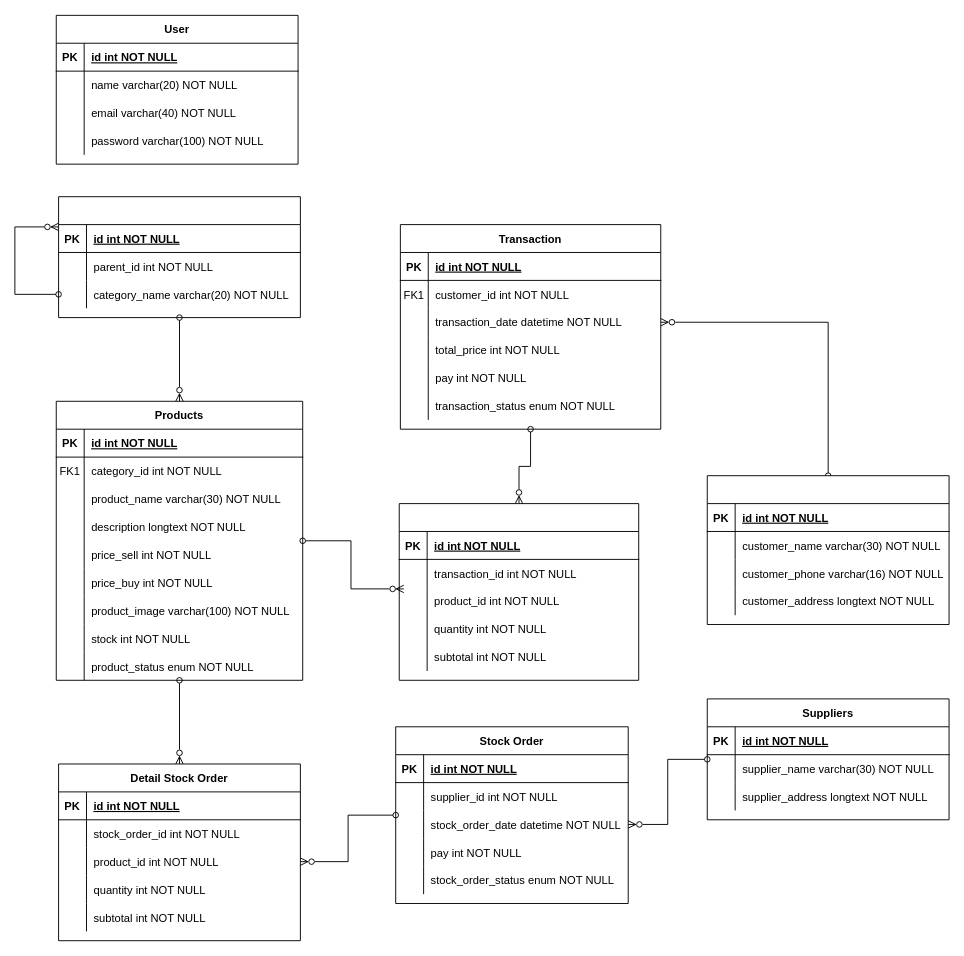
Image size: 964x956. Some labels were removed from this diagram. The shapes that lost their labels are listed below. From the top down, each one's box as (x1, y1, x2, y2) in pixels, then its label:
(58, 196, 300, 318): Categories
(706, 475, 949, 624): Customers
(398, 503, 639, 680): Detail Transaction
